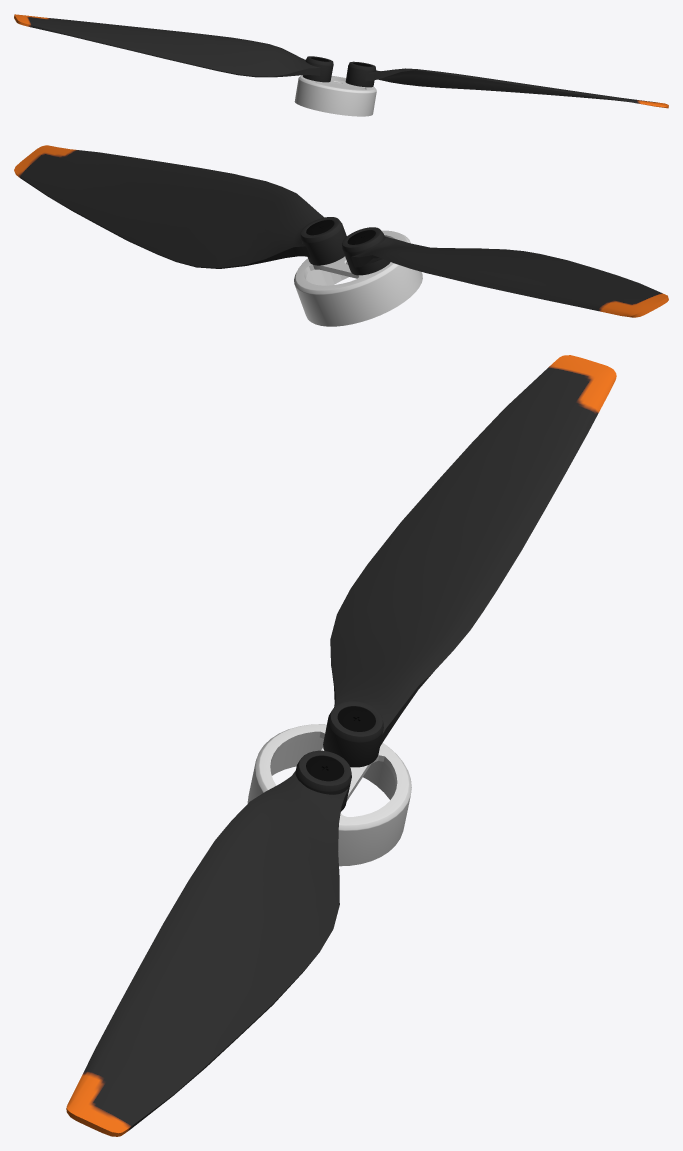
The model's file is motor_lf.dae.
The picture shows the model from 3 angles, top to bottom: view 1: azimuth 30°, elevation 25°; view 2: azimuth 150°, elevation 25°; view 3: azimuth 270°, elevation 25°; orthographic projection. The views are drawn at different scales.
Visible parts, largest first — view 1: pCylinder8_11, pCylinder8_2_2_2, MotorShellLF; view 2: pCylinder8_2_2_2, pCylinder8_11, MotorShellLF; view 3: pCylinder8_2_2_2, pCylinder8_11, MotorShellLF.
Boxes of the visible parts, x1=… form: pCylinder8_11: x1=14, y1=14, x2=333, y2=82; pCylinder8_2_2_2: x1=345, y1=61, x2=668, y2=108; MotorShellLF: x1=294, y1=75, x2=376, y2=116; pCylinder8_2_2_2: x1=14, y1=145, x2=346, y2=268; pCylinder8_11: x1=342, y1=227, x2=668, y2=317; MotorShellLF: x1=294, y1=230, x2=422, y2=326; pCylinder8_2_2_2: x1=66, y1=750, x2=351, y2=1136; pCylinder8_11: x1=323, y1=355, x2=616, y2=767; MotorShellLF: x1=247, y1=724, x2=411, y2=866.
Bounding box in the file's own units: 0.1396 × 0.0624 × 0.0331.
1 material, 1 textured.
